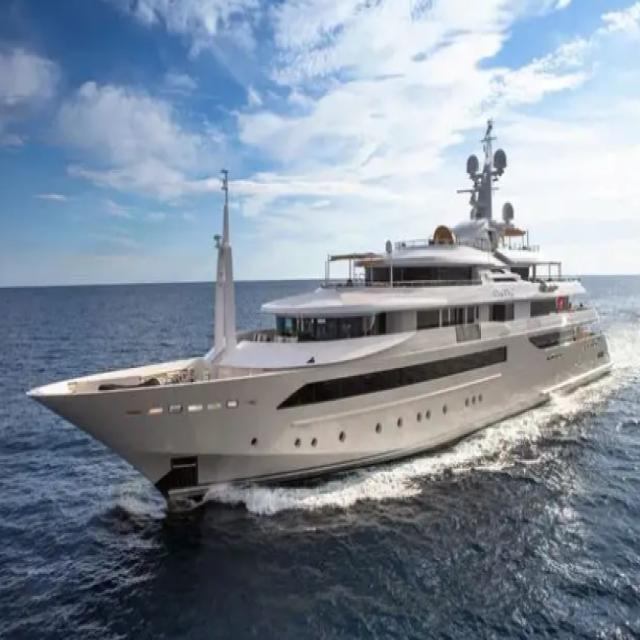houseboat: (34, 119, 622, 557)
